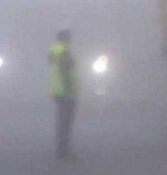person: (46, 26, 83, 164)
